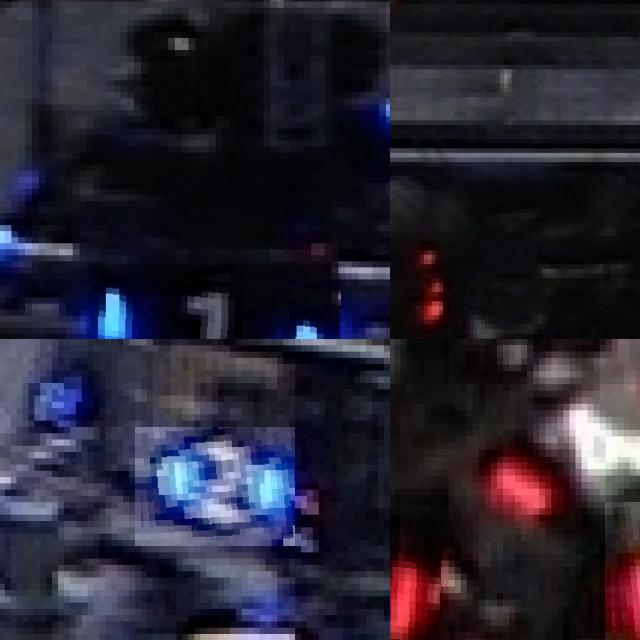B1: (89, 264, 341, 339)
B2: (135, 427, 295, 546)
R4: (390, 488, 442, 640), (605, 501, 640, 640)
